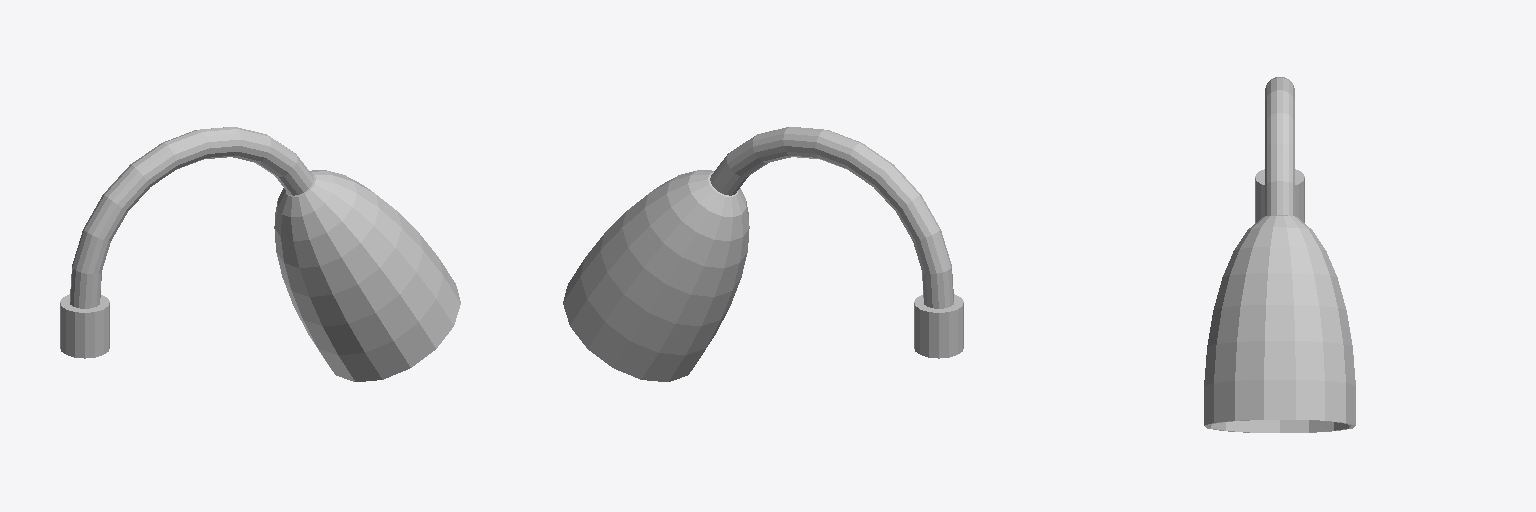
Rendered from lamp_lampShade_5.obj.
The picture shows the model from 3 angles: view 1: azimuth 30°, elevation 25°; view 2: azimuth 150°, elevation 25°; view 3: azimuth 270°, elevation 25°; orthographic projection.
Size of the model in its own units: 4.46 by 3.07 by 1.52.